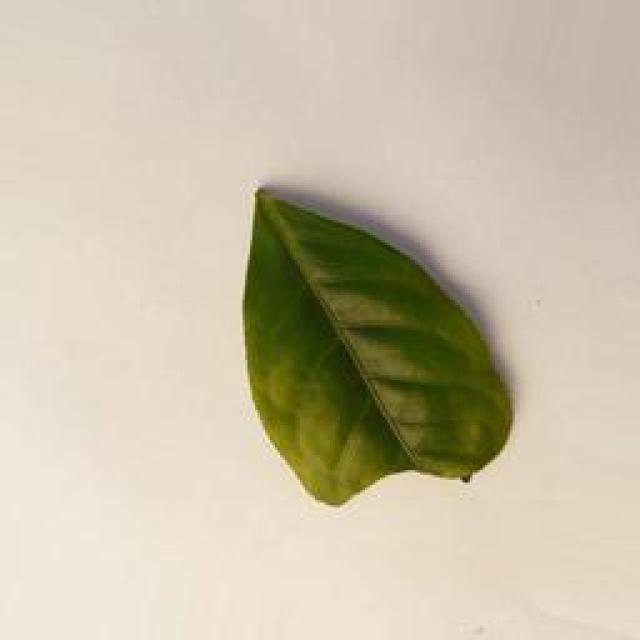Healthy: (217, 162, 526, 517)
